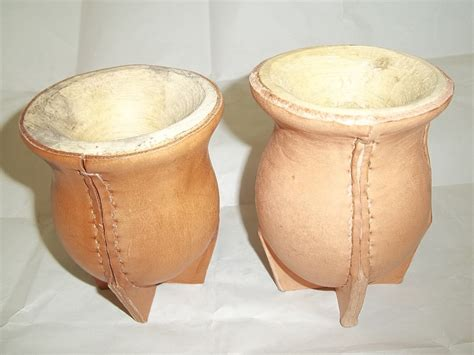cuero: (17, 75, 454, 330)
